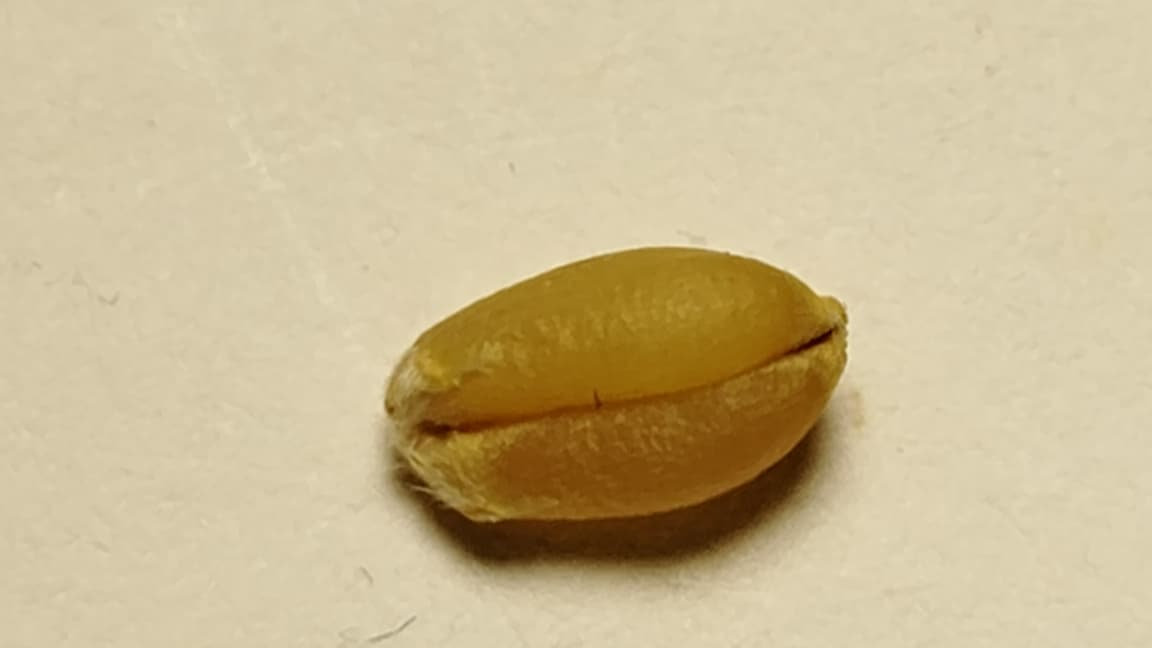healthy: (381, 242, 847, 527)
